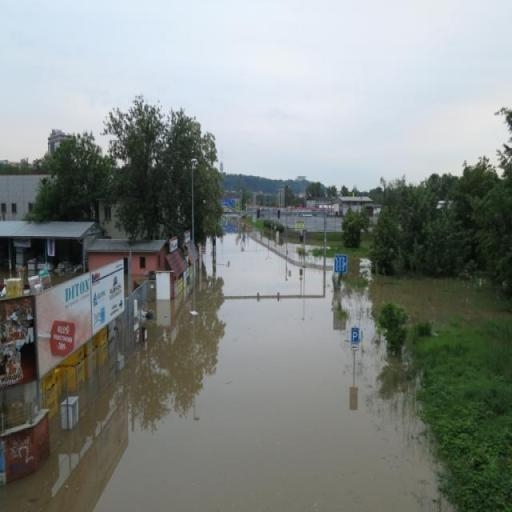flood: (0, 233, 512, 512), (360, 260, 369, 280)
house: (0, 218, 95, 272), (87, 238, 169, 282), (0, 174, 60, 219), (338, 194, 377, 219)
